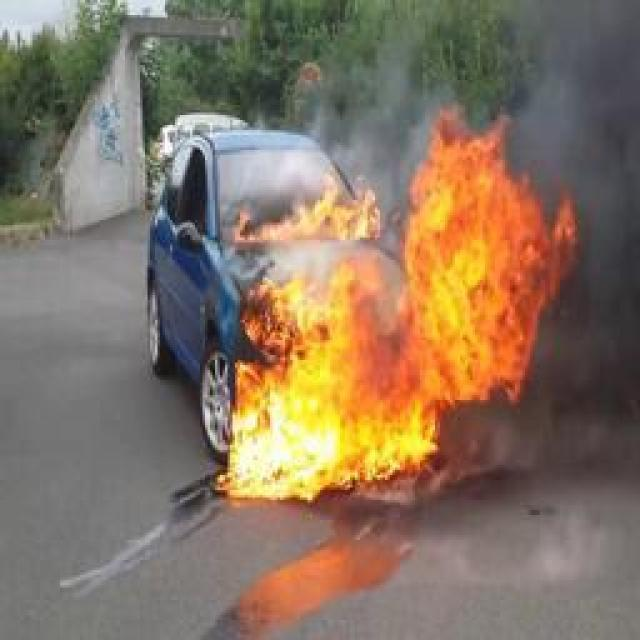Fire: (218, 109, 582, 504), (230, 170, 385, 248)
